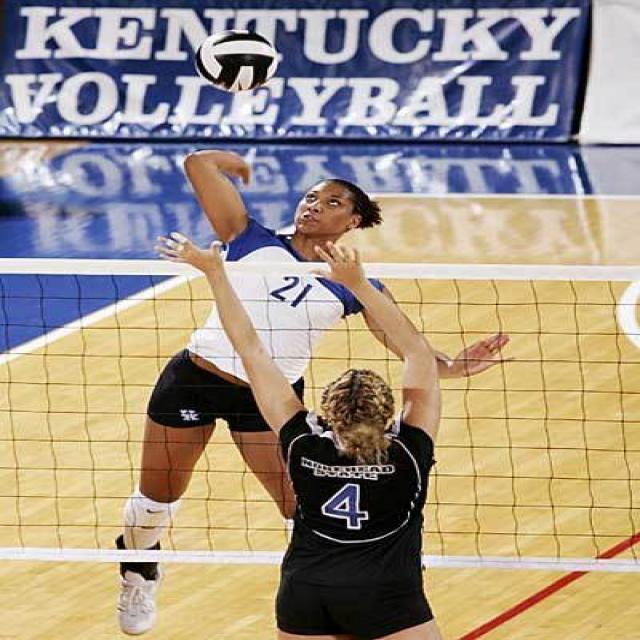volleyball: (194, 28, 276, 92)
